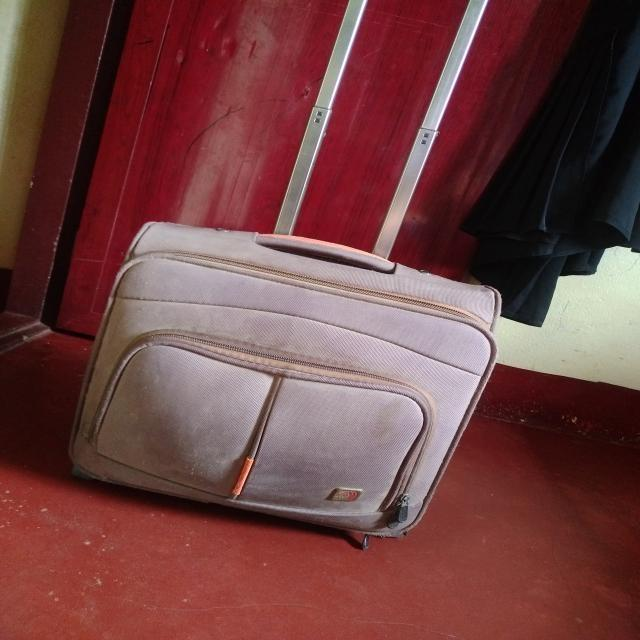Suitcase: (57, 0, 513, 553)
